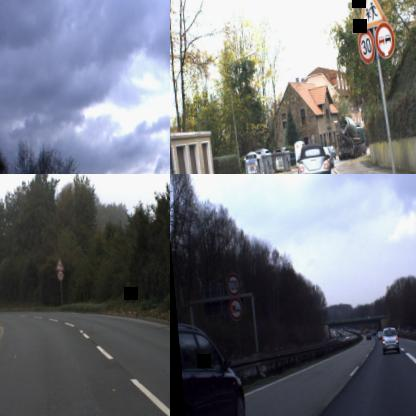SCHOOL CROSSING: (355, 0, 388, 30)
bend right: (54, 256, 64, 271)
no overtaking (trucks): (372, 20, 396, 59)
no overtaking -trucks-: (227, 296, 244, 322)
speed limit 120: (225, 272, 242, 298)
speed limit 30: (356, 29, 376, 64), (57, 270, 64, 281)
